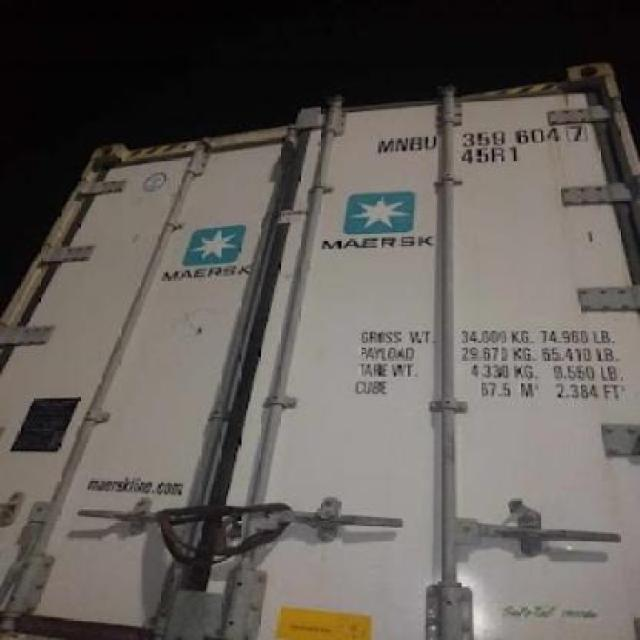ISO: (460, 144, 524, 166)
container_number: (374, 122, 588, 156)
